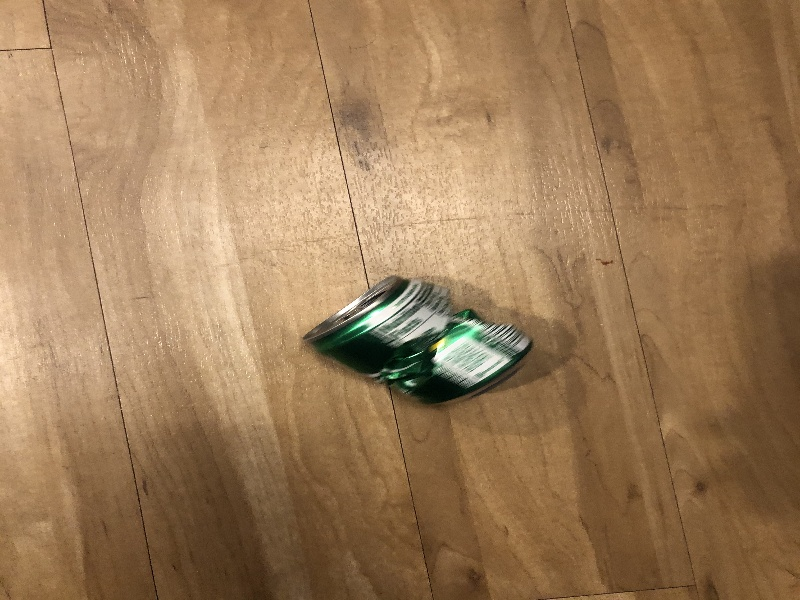metal: (293, 271, 537, 409)
